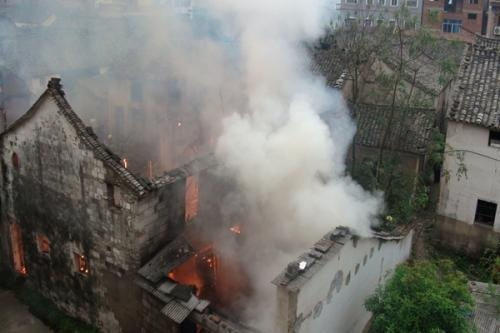fire: (183, 175, 201, 218), (228, 223, 242, 235)
